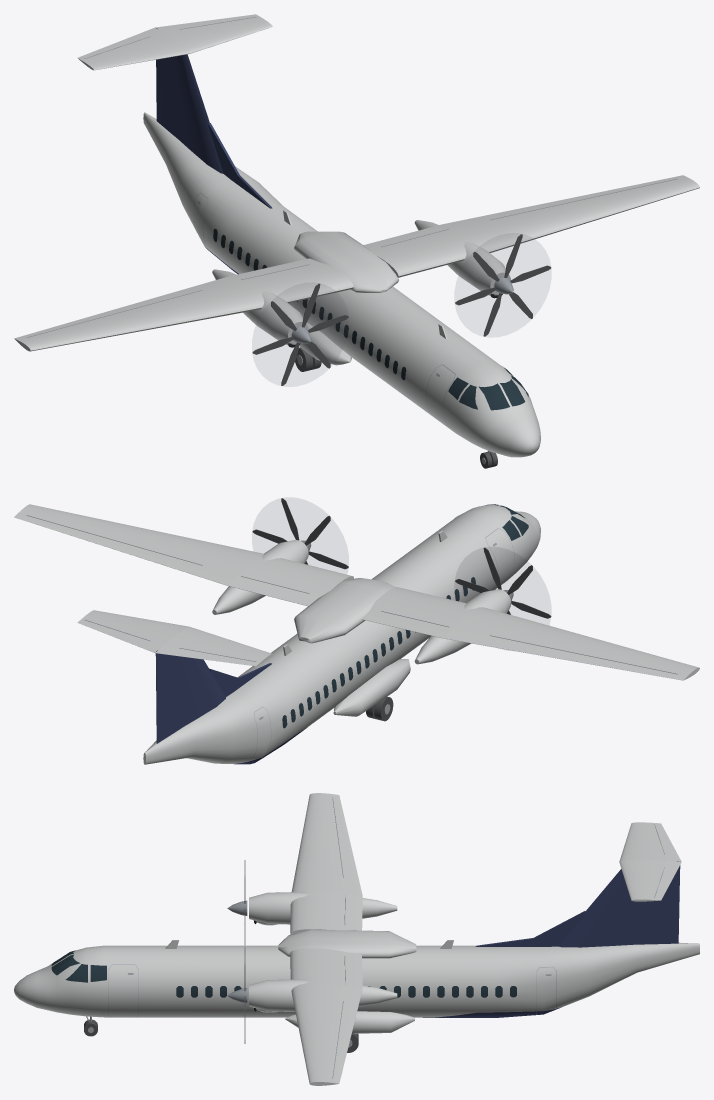
The model's file is aircraft-turboprop.glb.
3 renders of one model, top to bottom at view 1: azimuth 30°, elevation 25°; view 2: azimuth 150°, elevation 25°; view 3: azimuth 270°, elevation 25°, orthographic. The views are drawn at different scales.
Visible parts, largest first — view 1: aircraft-turboprop; view 2: aircraft-turboprop, gear; view 3: aircraft-turboprop.
Part boxes in pixels (x1,y1,x2,y2): aircraft-turboprop: (14,14,699,457); aircraft-turboprop: (14,498,699,764); gear: (366,696,393,721); aircraft-turboprop: (14,793,699,1085).
Bounding box in the file's own units: 27.1 × 7.64 × 27.2.
